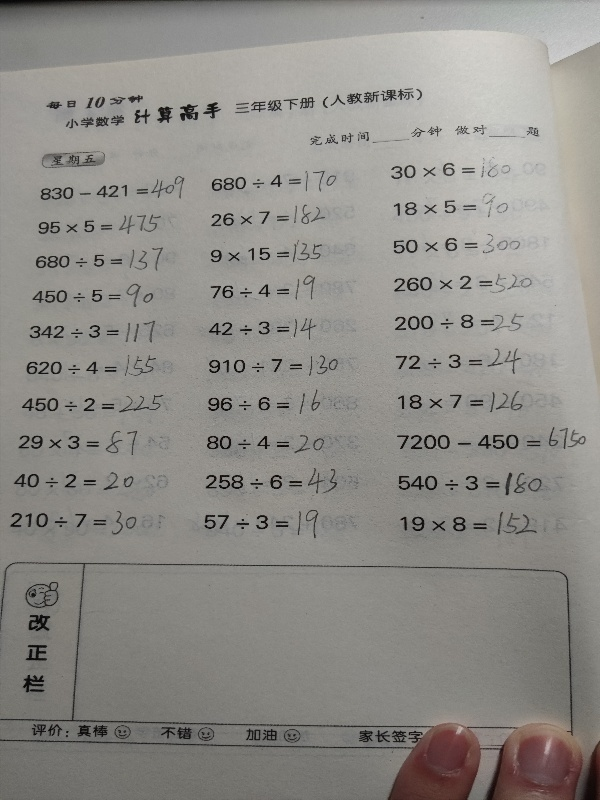equation: (394, 423, 590, 453), (19, 577, 61, 696), (395, 469, 547, 499), (202, 466, 344, 498), (36, 172, 187, 202), (396, 510, 540, 541), (201, 506, 323, 542), (393, 345, 525, 378), (7, 507, 141, 539), (15, 427, 141, 459), (204, 389, 331, 420), (31, 247, 170, 275), (205, 352, 342, 380), (26, 353, 163, 381), (31, 283, 163, 312), (390, 229, 521, 258), (28, 317, 163, 345), (18, 392, 166, 417), (394, 388, 526, 416), (202, 431, 328, 460), (387, 153, 516, 181), (206, 236, 325, 266), (390, 192, 516, 220), (208, 274, 319, 305), (206, 314, 320, 344), (35, 212, 165, 238), (392, 311, 527, 336), (390, 271, 535, 294), (11, 468, 138, 494), (209, 169, 343, 193), (209, 202, 332, 227)
